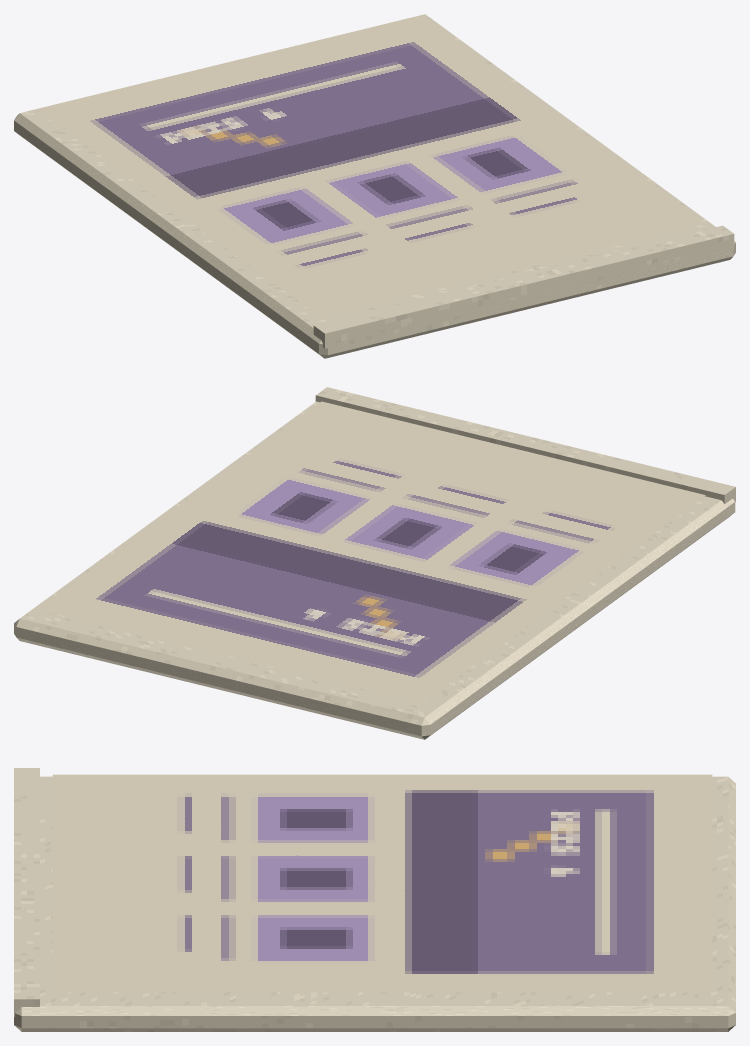
File: petpamphlet.glb
The picture shows the model from 3 angles, top to bottom: view 1: azimuth 30°, elevation 25°; view 2: azimuth 150°, elevation 25°; view 3: azimuth 270°, elevation 25°; orthographic projection. The views are drawn at different scales.
Parts seen in each view (by area): view 1: block_typeset and illustrated leaflet cover, block_folded three-panel leaflet, block_folded leaf edge; view 2: block_typeset and illustrated leaflet cover, block_folded three-panel leaflet, block_folded leaf edge; view 3: block_typeset and illustrated leaflet cover, block_folded three-panel leaflet, block_folded leaf edge.
Boxes of the visible parts, x1,y1,x2,y2 form: block_typeset and illustrated leaflet cover: (37,15,705,317); block_folded three-panel leaflet: (14,14,735,358); block_folded leaf edge: (313,225,734,348); block_typeset and illustrated leaflet cover: (37,401,705,703); block_folded three-panel leaflet: (14,401,735,739); block_folded leaf edge: (315,387,735,503); block_typeset and illustrated leaflet cover: (52,774,712,992); block_folded three-panel leaflet: (14,776,735,1031); block_folded leaf edge: (14,768,39,1016).
Size of the model in its own units: 0.1927 by 0.0128 by 0.2495.
1 material, 1 textured.
